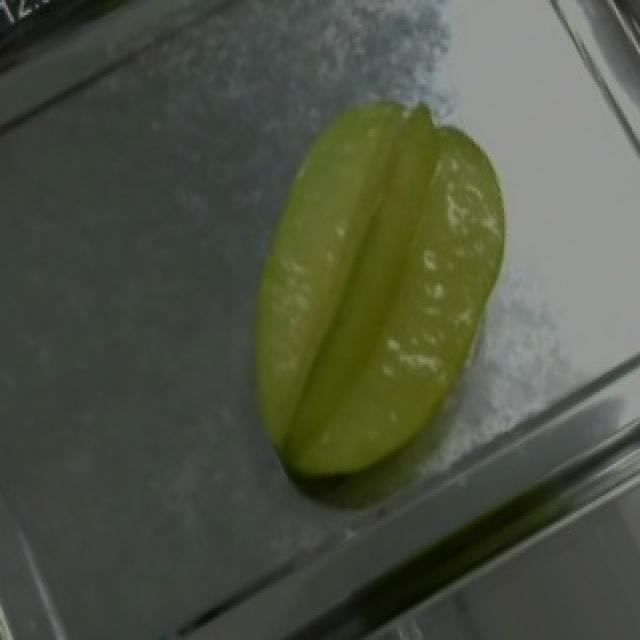fruit: (164, 52, 592, 548)
